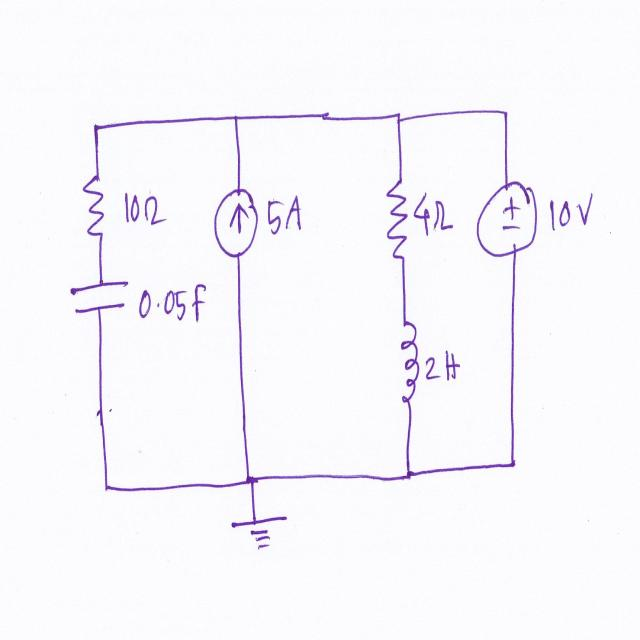capacitor: (64, 270, 131, 324)
current_source: (210, 181, 260, 263)
ground: (228, 510, 290, 559)
inductor: (392, 318, 421, 413)
resistor: (379, 167, 412, 271), (76, 173, 112, 246)
voltage_source: (476, 174, 541, 271)
